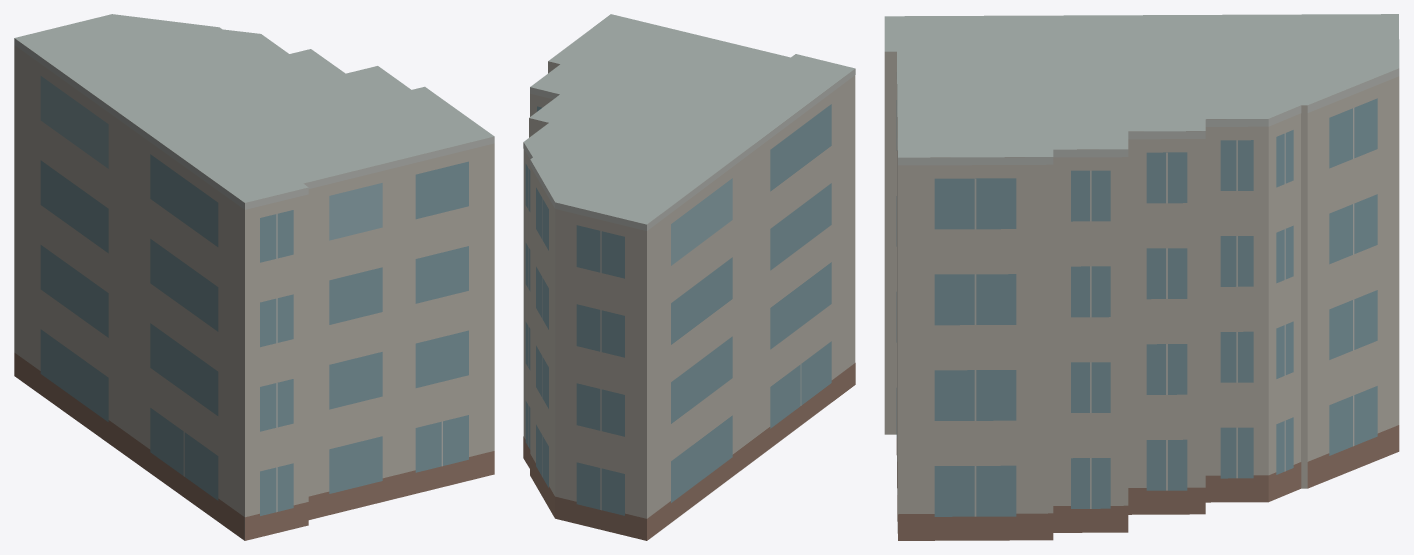
File: survey-upis-32613481.glb
3 renders of one model, left to right at view 1: azimuth 30°, elevation 25°; view 2: azimuth 150°, elevation 25°; view 3: azimuth 270°, elevation 25°, orthographic. The views are drawn at different scales.
Parts seen in each view (by area): view 1: survey-upis-32613481.tmp; view 2: survey-upis-32613481.tmp; view 3: survey-upis-32613481.tmp.
Part boxes in pixels (x1,y1,x2,y2): survey-upis-32613481.tmp: [14, 14, 494, 540]; survey-upis-32613481.tmp: [523, 14, 855, 540]; survey-upis-32613481.tmp: [884, 14, 1399, 540].
Bounding box in the file's own units: 9.53 × 11.85 × 14.43.
